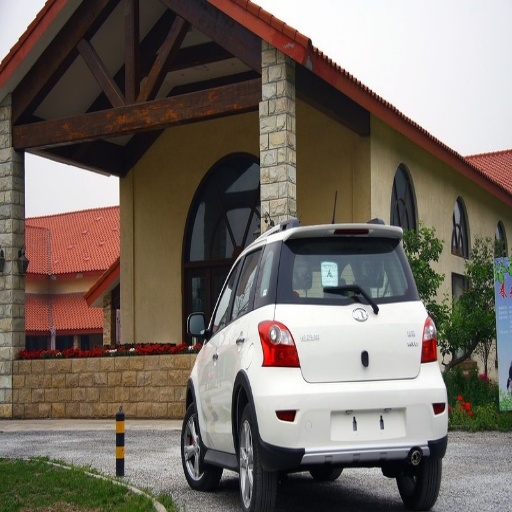back_bumper: (255, 363, 448, 461)
back_glass: (262, 238, 416, 301), (66, 35, 130, 107), (22, 40, 73, 103)
back_left_door: (216, 334, 235, 421)
tailgate: (11, 92, 145, 173)
trunk: (277, 305, 426, 408)
